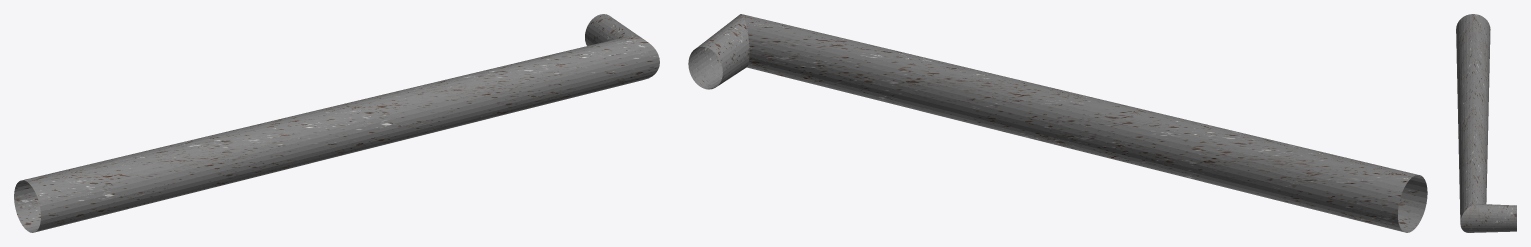
The model's file is Pipe.fbx.
The picture shows the model from 3 angles, left to right: view 1: azimuth 30°, elevation 25°; view 2: azimuth 150°, elevation 25°; view 3: azimuth 270°, elevation 25°; orthographic projection. The views are drawn at different scales.
Visible parts, largest first — view 1: Cylinder; view 2: Cylinder; view 3: Cylinder.
Part boxes in pixels (box(x1,y1,x2,y2)): Cylinder: box(14, 14, 659, 232); Cylinder: box(688, 14, 1427, 232); Cylinder: box(1456, 14, 1516, 232).
Size of the model in its own units: 701 by 52.61 by 92.95.
